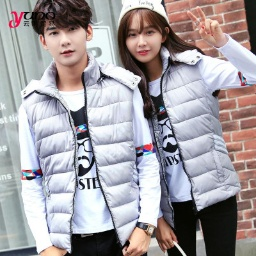face: (113, 9, 180, 72), (30, 2, 97, 64)
